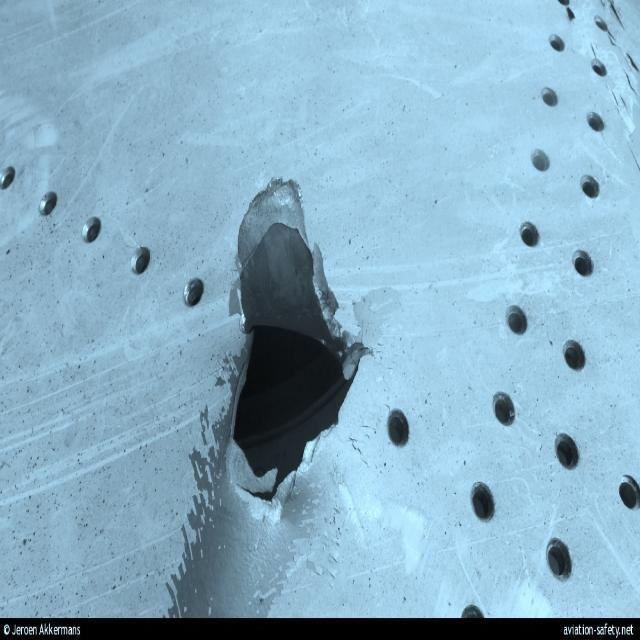crack: (215, 219, 375, 510), (559, 2, 640, 172)
